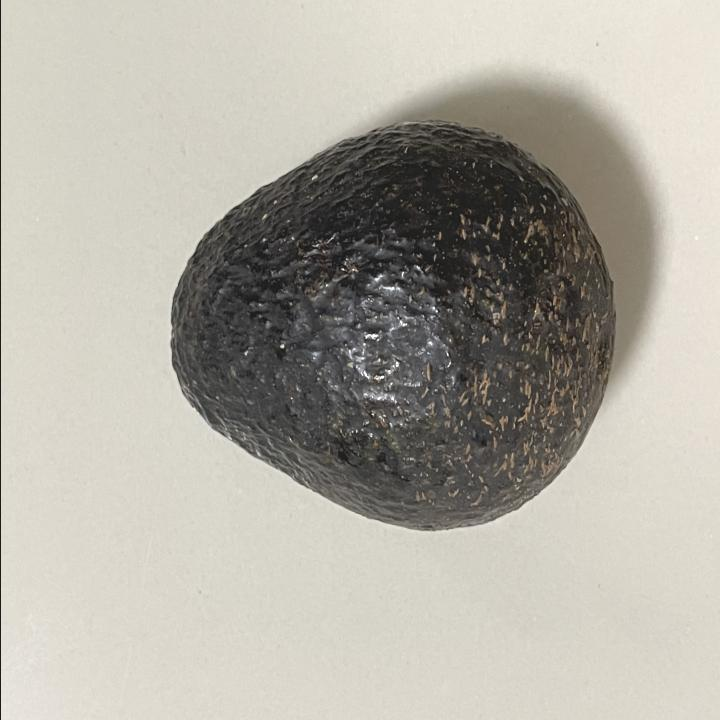Level2: (160, 114, 620, 544)
